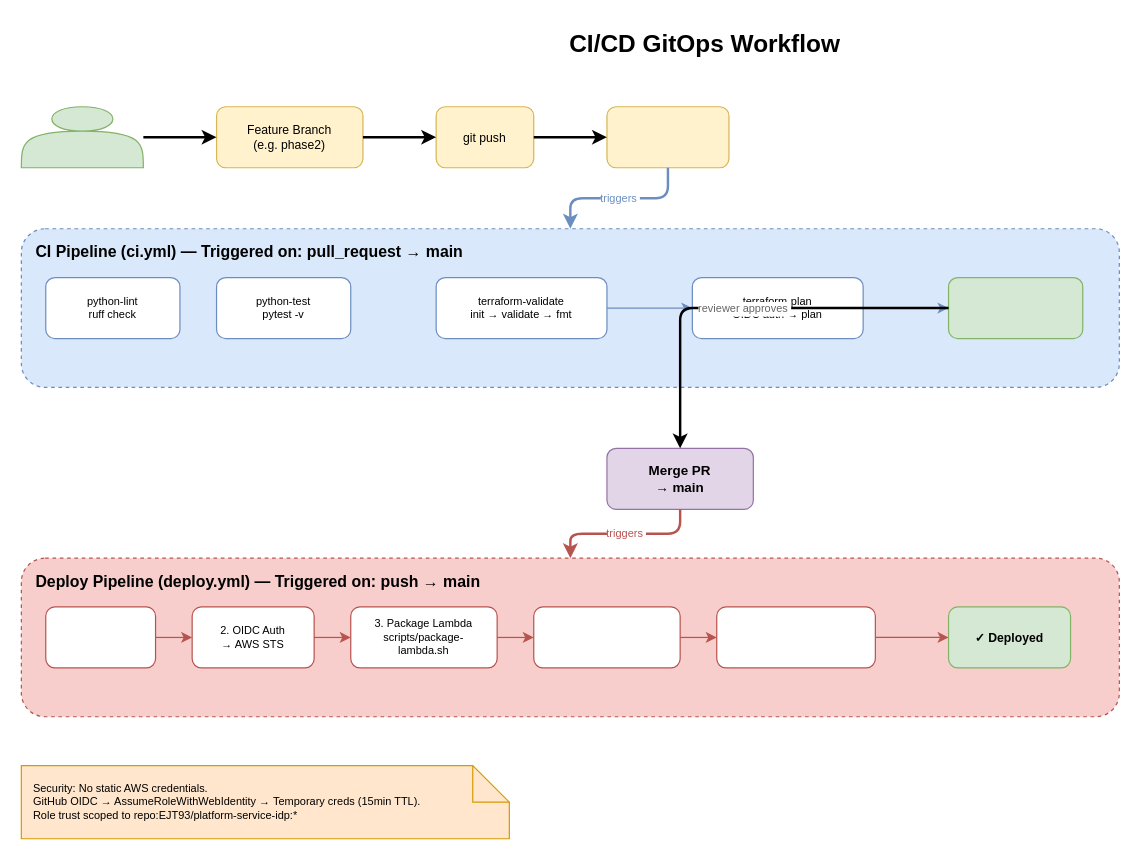
Image size: 1141x860. Some labels were removed from this diagram. Here are the shapes that lost their labels. From the top down, the box of each, then its label:
(20, 106, 143, 168): Developer
(606, 106, 729, 168): Open PR → main
(947, 276, 1083, 339): ✓ All checks pass on PR
(45, 606, 156, 668): 1. Checkout
(533, 606, 680, 668): 4. Upload to S3 lambda/package.zip
(716, 606, 875, 668): 5. terraform apply -var-file dev.tfvars -auto-approve
